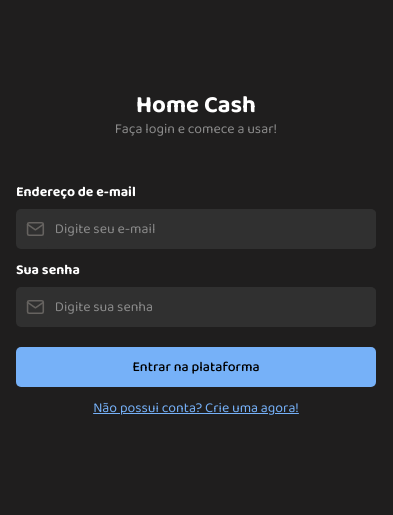
Test case: Login › should navigation to login
Click the text "Não possui conta? Crie uma agora!" at (196, 408), box [93, 397, 299, 420]
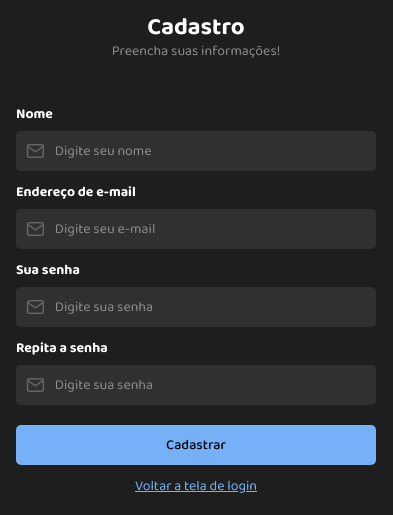
Now the heading "Cadastro" is shown, box [147, 16, 245, 40]
Click the text "Voltar a tela de login" at (196, 486), box [135, 475, 257, 498]
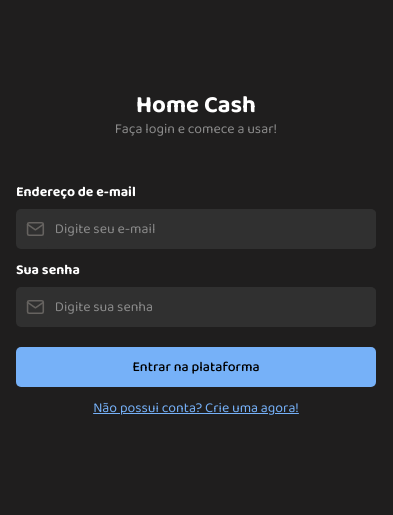
Now the text "Faça login e comece a usar!" is shown, box [115, 118, 277, 141]
